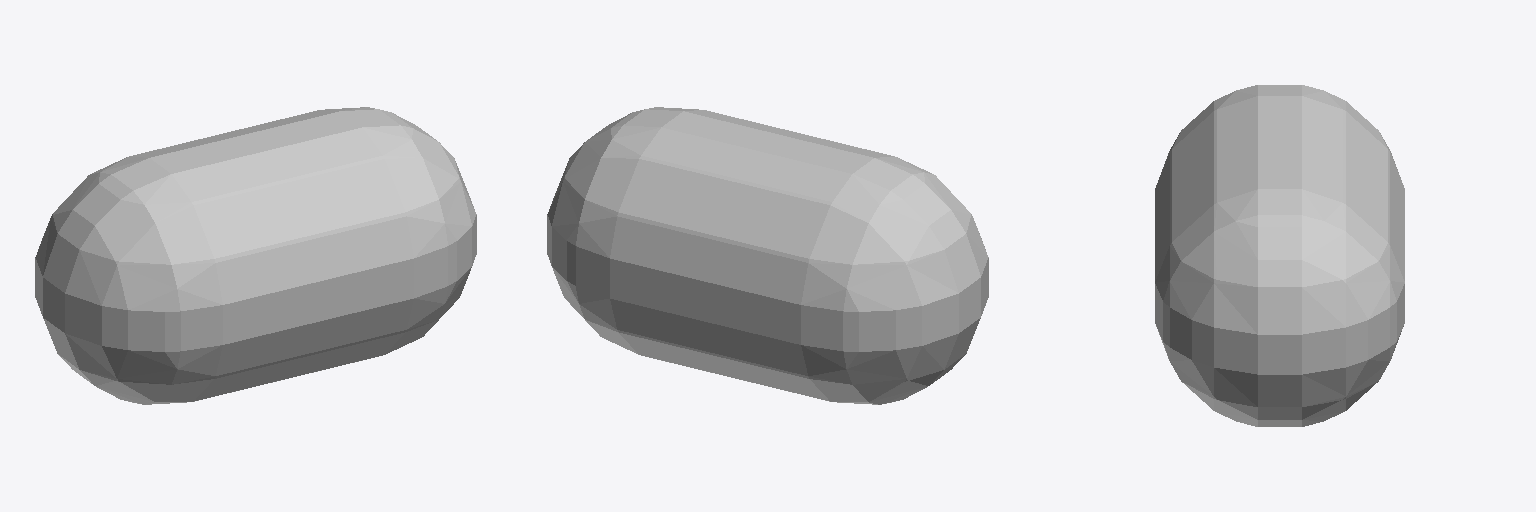
The picture shows the model from 3 angles: view 1: azimuth 30°, elevation 25°; view 2: azimuth 150°, elevation 25°; view 3: azimuth 270°, elevation 25°; orthographic projection.
Parts seen in each view (by area): view 1: Mball_Mball.001; view 2: Mball_Mball.001; view 3: Mball_Mball.001.
Boxes of the visible parts, x1,y1,x2,y2 form: Mball_Mball.001: [35, 107, 476, 404]; Mball_Mball.001: [547, 107, 988, 404]; Mball_Mball.001: [1155, 85, 1404, 426].
Size of the model in its own units: 4.23 by 2.27 by 2.27.